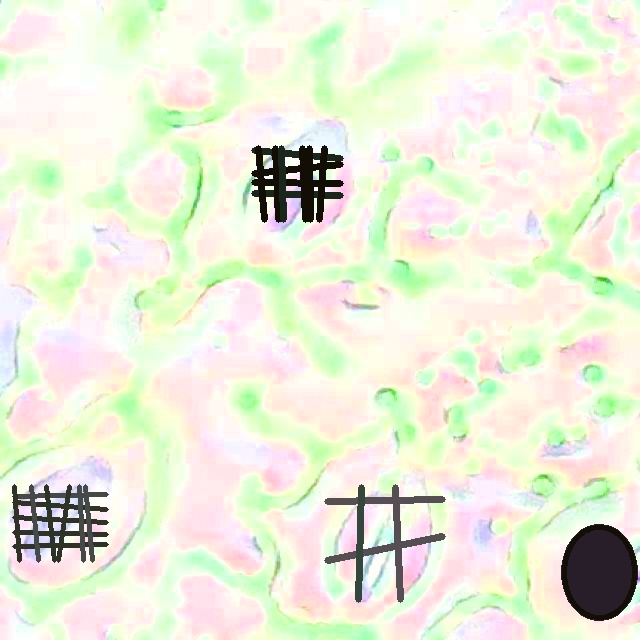open: (324, 484, 445, 602), (13, 484, 108, 562), (561, 523, 637, 620), (251, 145, 343, 222)
